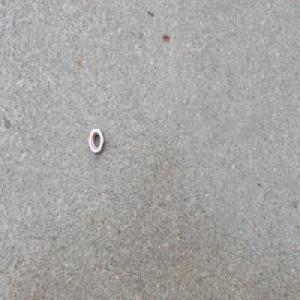Nut: (87, 126, 103, 154)
